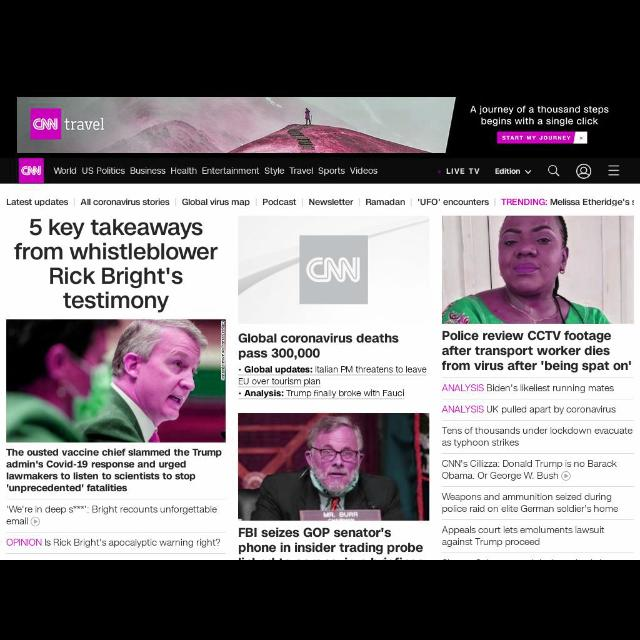icon: (576, 163, 592, 179), (606, 163, 622, 177), (546, 165, 562, 178), (560, 469, 574, 481), (30, 516, 42, 528), (524, 168, 534, 176), (434, 168, 442, 174), (578, 134, 584, 140), (237, 392, 243, 398), (238, 366, 242, 374)
image: (7, 320, 225, 442), (16, 97, 456, 153), (240, 215, 428, 327), (442, 215, 634, 323), (238, 412, 430, 520), (18, 159, 44, 181)
spinner: (488, 162, 538, 180)
text: (13, 215, 219, 312), (5, 446, 224, 494), (440, 328, 632, 374), (233, 524, 425, 556), (5, 505, 219, 529), (441, 457, 621, 483), (440, 490, 620, 516), (441, 424, 634, 448), (238, 333, 400, 361), (232, 365, 430, 387), (441, 526, 607, 548), (470, 101, 610, 127), (4, 534, 222, 548), (442, 404, 618, 418), (234, 388, 430, 399), (442, 382, 616, 394), (499, 196, 636, 208), (416, 196, 490, 208), (181, 196, 251, 208), (1, 196, 70, 208), (80, 198, 172, 206), (307, 196, 355, 208), (82, 165, 126, 177), (200, 167, 260, 175), (364, 198, 406, 208), (501, 134, 571, 140), (444, 166, 482, 177), (130, 167, 168, 176), (318, 166, 347, 176), (263, 199, 297, 207), (349, 167, 378, 176), (170, 167, 198, 176), (494, 167, 522, 175), (51, 166, 77, 174), (288, 167, 314, 175), (264, 167, 286, 176)
textbutton: (496, 132, 586, 142)
toolbar: (1, 80, 640, 184)
